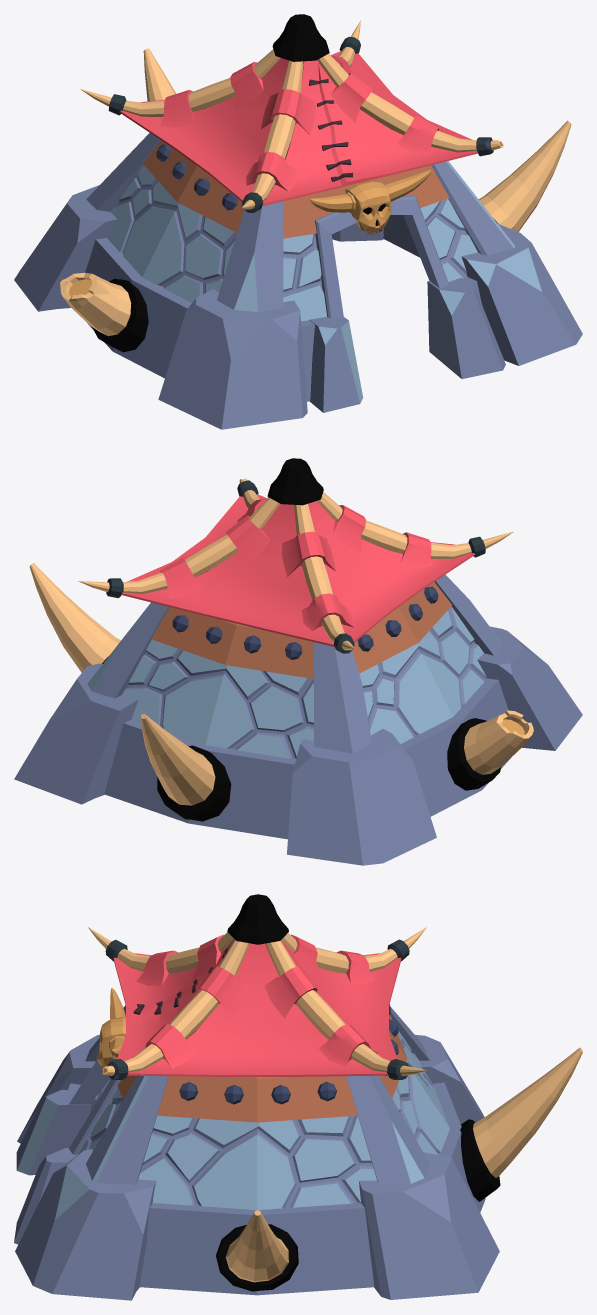
File: Ork Hut 02.fbx
3 renders of one model, top to bottom at view 1: azimuth 30°, elevation 25°; view 2: azimuth 150°, elevation 25°; view 3: azimuth 270°, elevation 25°, orthographic. The views are drawn at different scales.
Parts seen in each view (by area): view 1: Ork Hut 02; view 2: Ork Hut 02; view 3: Ork Hut 02.
Boxes of the visible parts, x1=… form: Ork Hut 02: x1=14, y1=14, x2=582, y2=429; Ork Hut 02: x1=14, y1=458, x2=582, y2=865; Ork Hut 02: x1=14, y1=894, x2=582, y2=1300.
Bounding box in the file's own units: 872 × 473 × 810.
